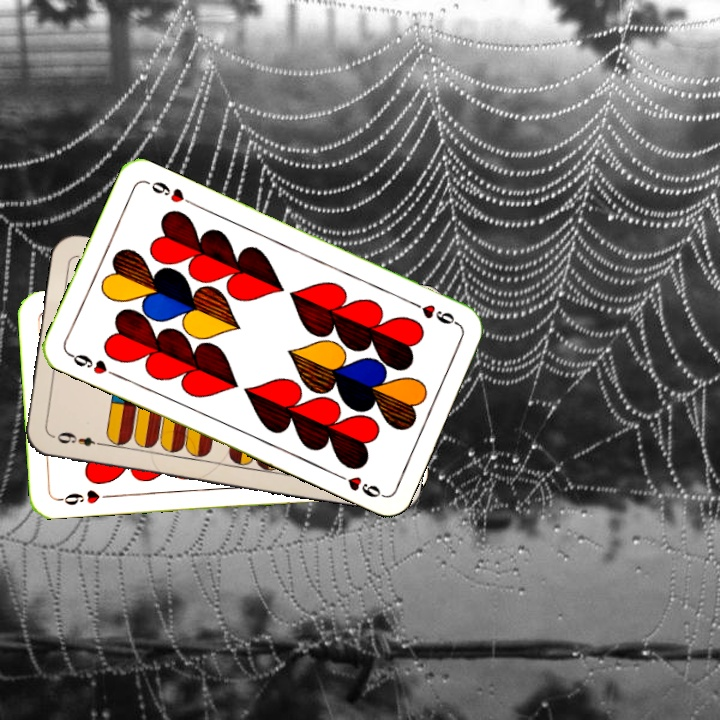E9: (49, 428, 108, 449)
H9: (406, 296, 461, 329), (64, 349, 121, 379), (54, 486, 113, 508)
